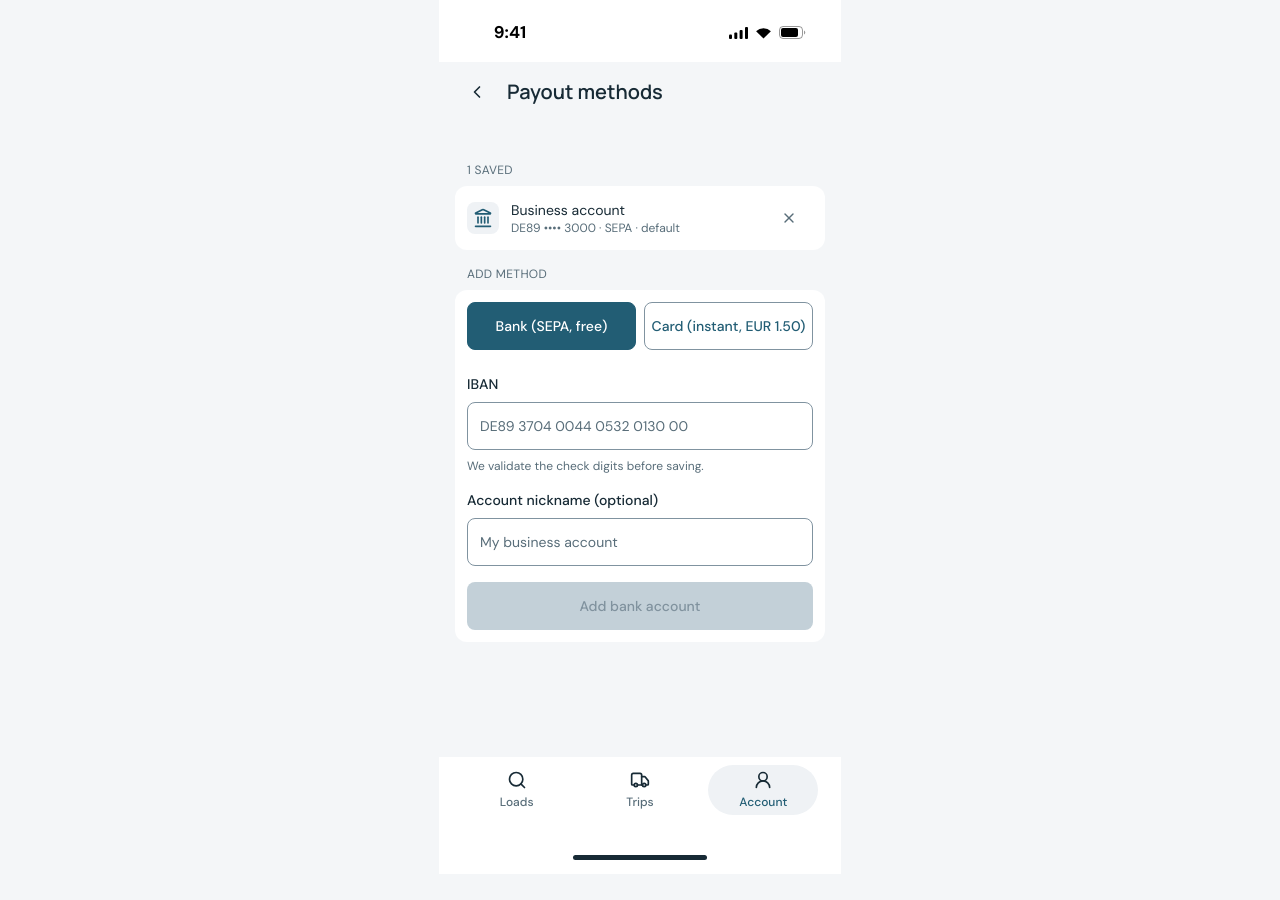
Test: removes the payout method once the confirmation is accepted
expect the heading "1 saved" is shown: met, box x1=467 y1=162 x2=513 y2=178
Step 1. Click the button named "Remove Business account" → (789, 218), box x1=765 y1=194 x2=813 y2=242
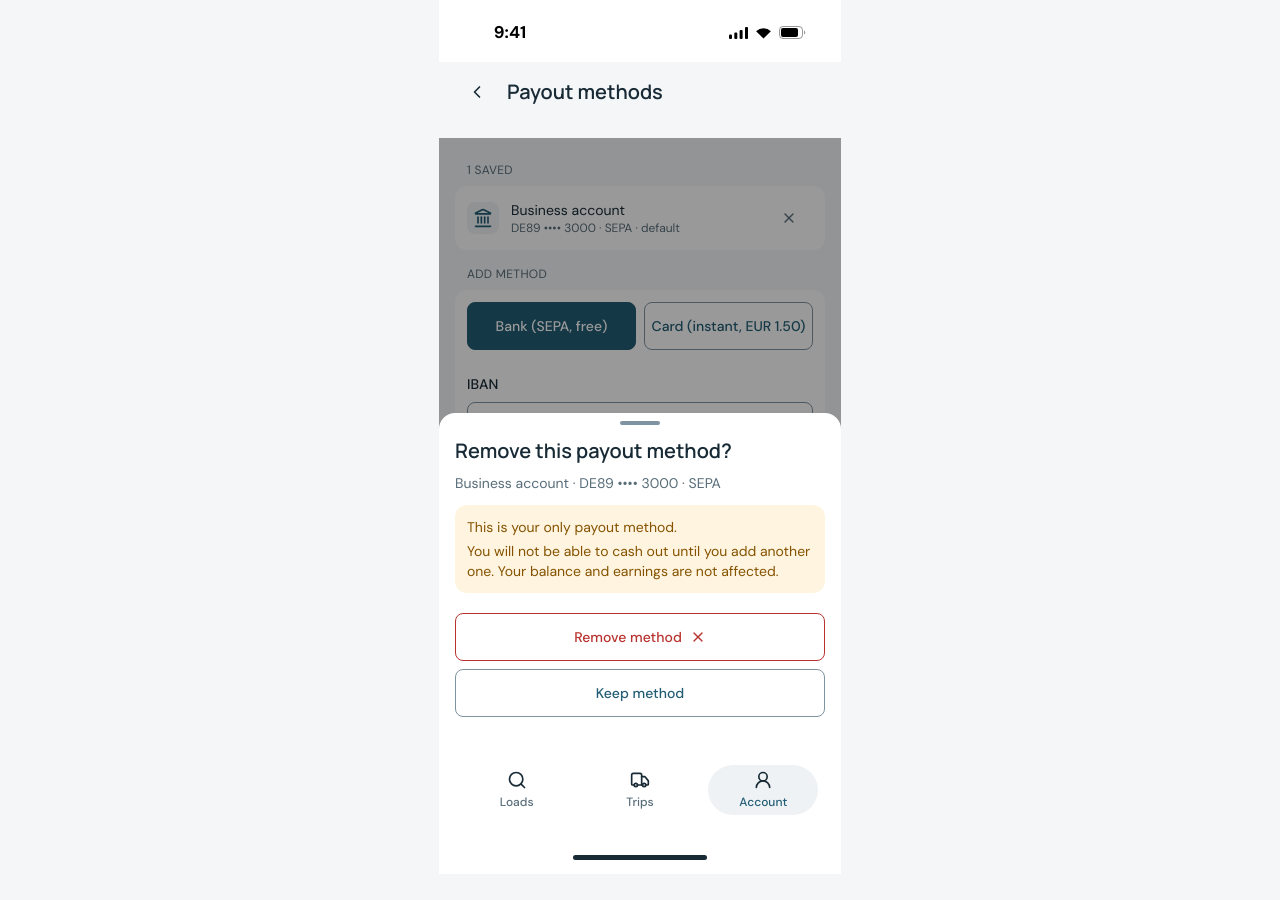
expect the heading "Remove this payout method?" is shown: met, box x1=455 y1=437 x2=732 y2=464
Step 2. Click the button "Remove method" → (640, 637), box x1=455 y1=613 x2=825 y2=661
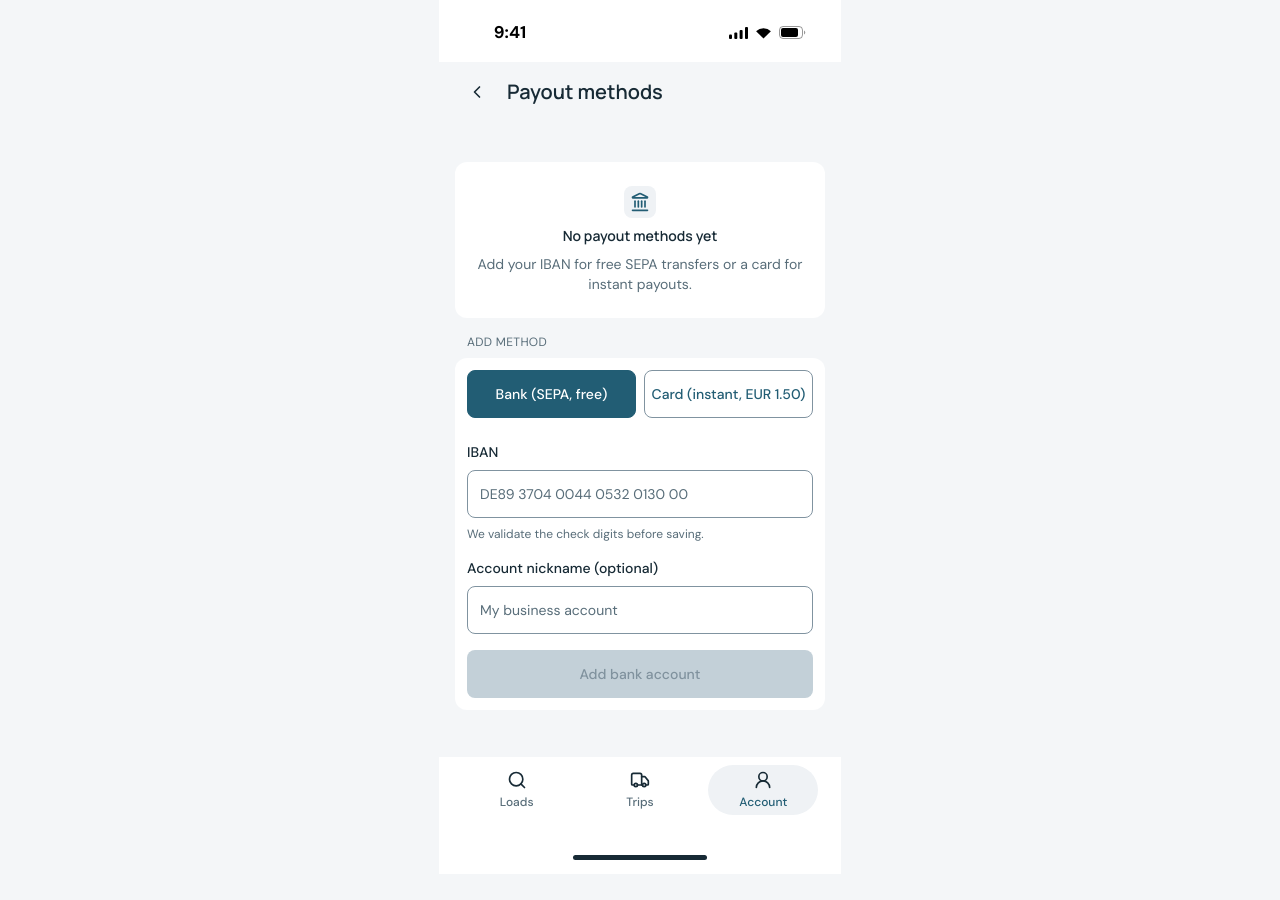
expect the text "No payout methods yet" is shown: met, box x1=563 y1=226 x2=717 y2=246
